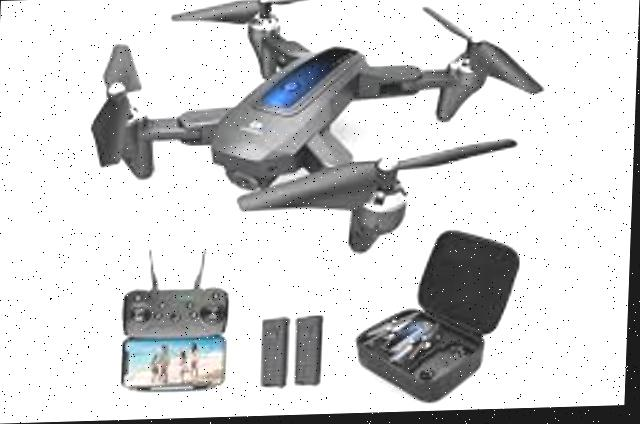drone: (64, 0, 560, 265)
